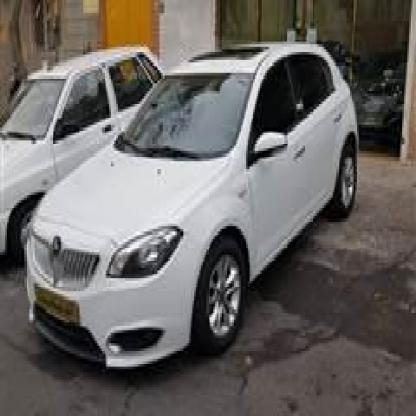Car: (28, 52, 359, 364), (0, 47, 166, 286)
